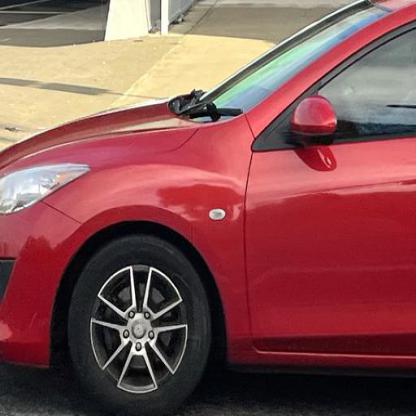Tire: (63, 234, 211, 415)
